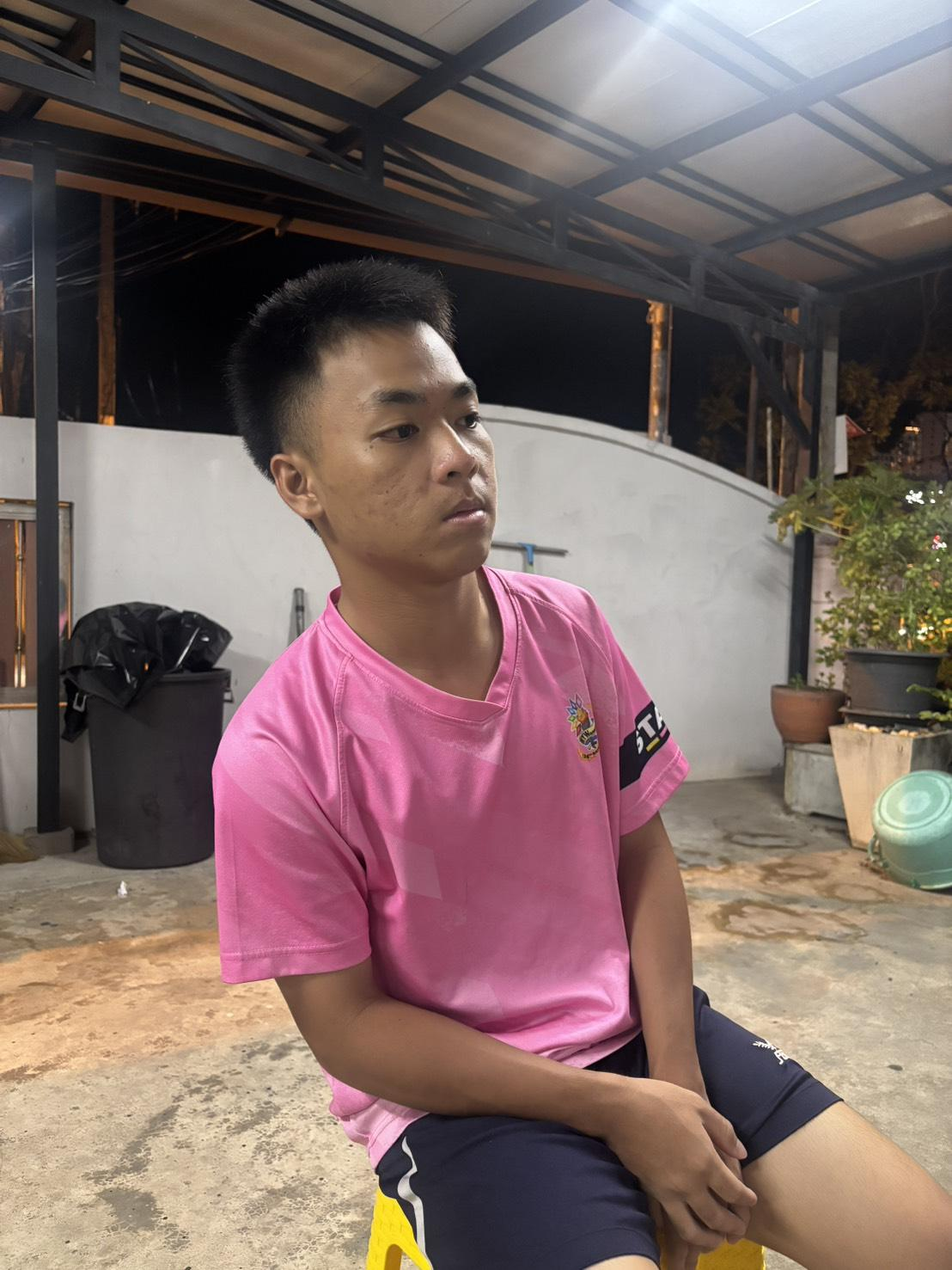BadPosture: (214, 263, 951, 1269)
